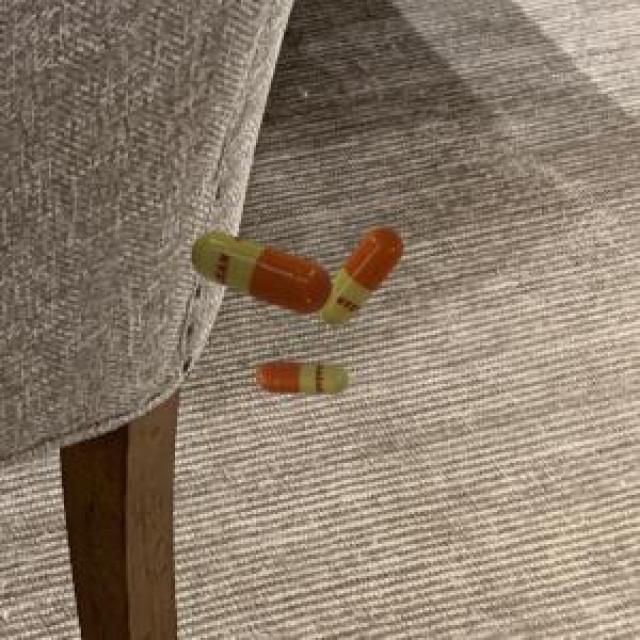Alaxan: (171, 205, 411, 329), (249, 352, 352, 410)
